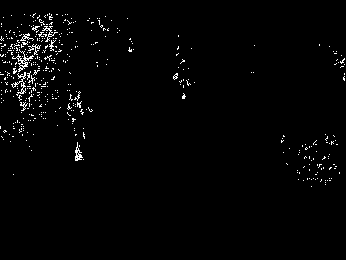person: (64, 91, 97, 163)
